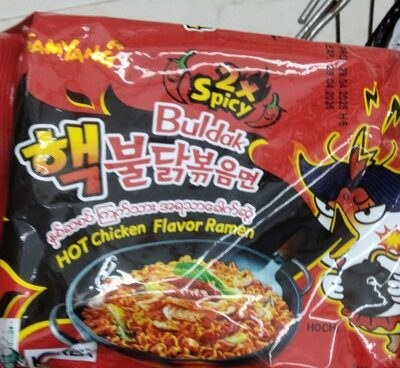Samyang 2x buldak spicy ramen: (20, 18, 380, 350)
